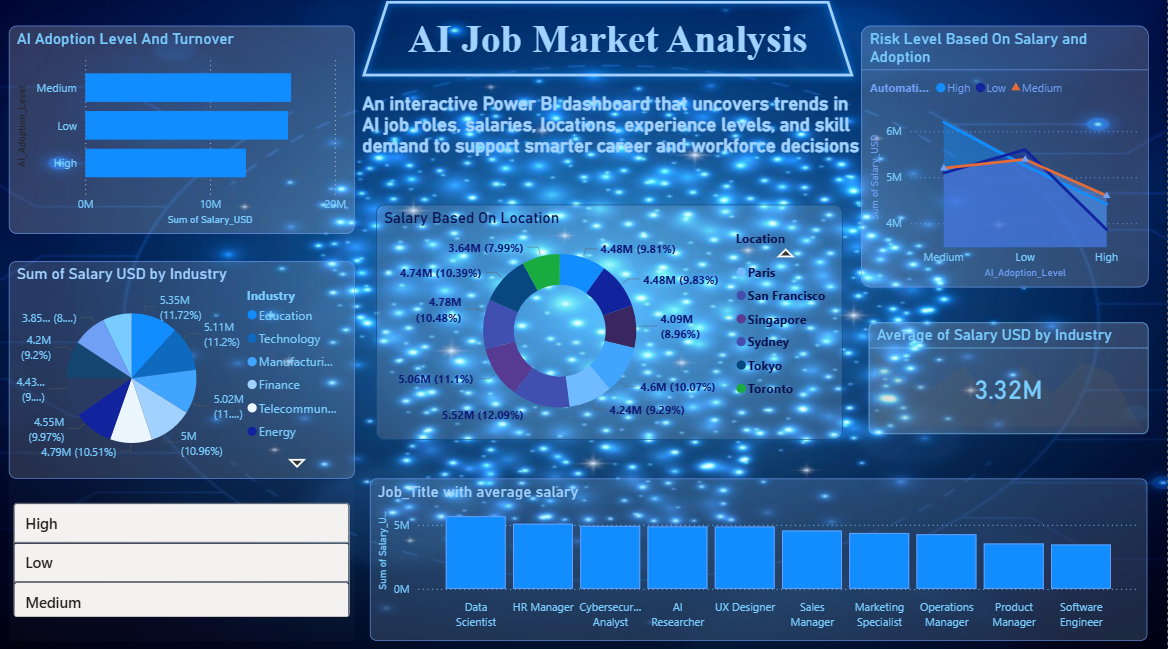

What the dashboard file says about the page in this screenshot:
{"tool":"powerbi","page":{"name":"Page 1","canvas":[1280,720],"ordinal":0},"visuals":[{"type":"actionButton","box":[394.8,1.7,551.4,98.3],"z":0},{"type":"barChart","title":" AI Adoption Level And Turnover","fields":{"Category":["ai_job_market_insights.AI_Adoption_Level"],"Y":["Sum(ai_job_market_insights.Salary_USD)"]},"box":[18.3,36.6,376.5,226.5],"z":1000},{"type":"pieChart","title":"Sum of Salary USD by Industry","fields":{"Category":["ai_job_market_insights.Industry"],"Y":["Sum(ai_job_market_insights.Salary_USD)"]},"box":[18.3,293.2,376.5,236.5],"z":1002},{"type":"cardVisual","fields":{"Rows":["ai_job_market_insights.AI_Adoption_Level"]},"box":[18.3,531.4,376.5,174.9],"z":1003},{"type":"columnChart","title":" Job_Title with average salary","fields":{"Category":["ai_job_market_insights.Job_Title"],"Y":["Sum(ai_job_market_insights.Salary_USD)"]},"box":[411.4,529.7,846.2,176.6],"z":1004},{"type":"kpi","title":"Average of Salary USD by Industry","fields":{"TrendLine":["ai_job_market_insights.Industry"],"Indicator":["Sum(ai_job_market_insights.Salary_USD)"]},"box":[954.5,359.8,304.8,121.6],"z":1005},{"type":"areaChart","title":"Risk Level Based On Salary and Adoption","fields":{"Category":["ai_job_market_insights.AI_Adoption_Level"],"Series":["ai_job_market_insights.Automation_Risk"],"Y":["Sum(ai_job_market_insights.Salary_USD)"]},"box":[946.2,36.6,313.2,284.8],"z":1006},{"type":"donutChart","title":"Salary Based On Location","fields":{"Series":["ai_job_market_insights.Location"],"Y":["Sum(ai_job_market_insights.Salary_USD)"]},"box":[418.1,231.5,508.1,256.5],"z":1007},{"type":"actionButton","title":"An interactive Power BI dashboard that uncovers trends in AI job roles, salaries, locations, experience levels, and skill demand to support smarter career and workforce decisions","box":[403.1,109.9,543,80],"z":1008}]}

Visuals, with their boxes in screenshot pixels (x1, y1, x2, y2), scaled from the page's 1280x720 canvas onto the 1168x649 screenshot:
actionButton: [360, 2, 863, 90]
" AI Adoption Level And Turnover" barChart: [17, 33, 360, 237]
"Sum of Salary USD by Industry" pieChart: [17, 264, 360, 477]
cardVisual - ai_job_market_insights.AI_Adoption_Level: [17, 479, 360, 637]
" Job_Title with average salary" columnChart: [375, 477, 1148, 637]
"Average of Salary USD by Industry" kpi: [871, 324, 1149, 434]
"Risk Level Based On Salary and Adoption" areaChart: [863, 33, 1149, 290]
"Salary Based On Location" donutChart: [382, 209, 845, 440]
"An interactive Power BI dashboard that uncovers trends in AI job roles, salaries, locations, experience levels, and skill demand to support smarter career and workforce decisions" actionButton: [368, 99, 863, 171]
